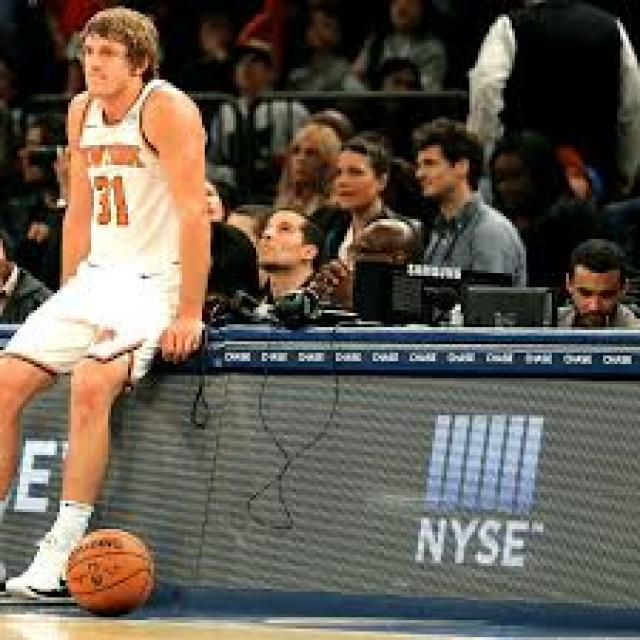rim: (66, 524, 156, 612)
